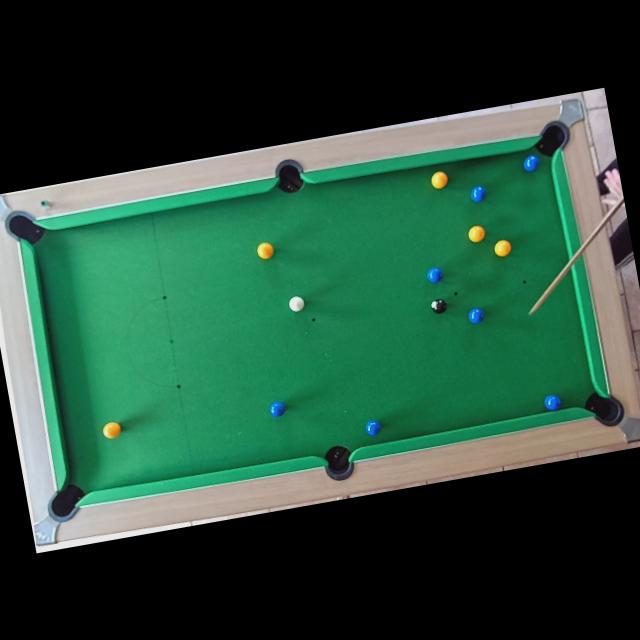Ball: (101, 420, 122, 440), (255, 240, 275, 260), (492, 238, 512, 258), (430, 169, 450, 189), (466, 224, 486, 244), (522, 153, 542, 173), (542, 392, 562, 412), (469, 185, 488, 204), (288, 294, 306, 314), (268, 400, 286, 418), (364, 418, 382, 436), (466, 307, 484, 325), (430, 298, 447, 314), (426, 268, 442, 284)
